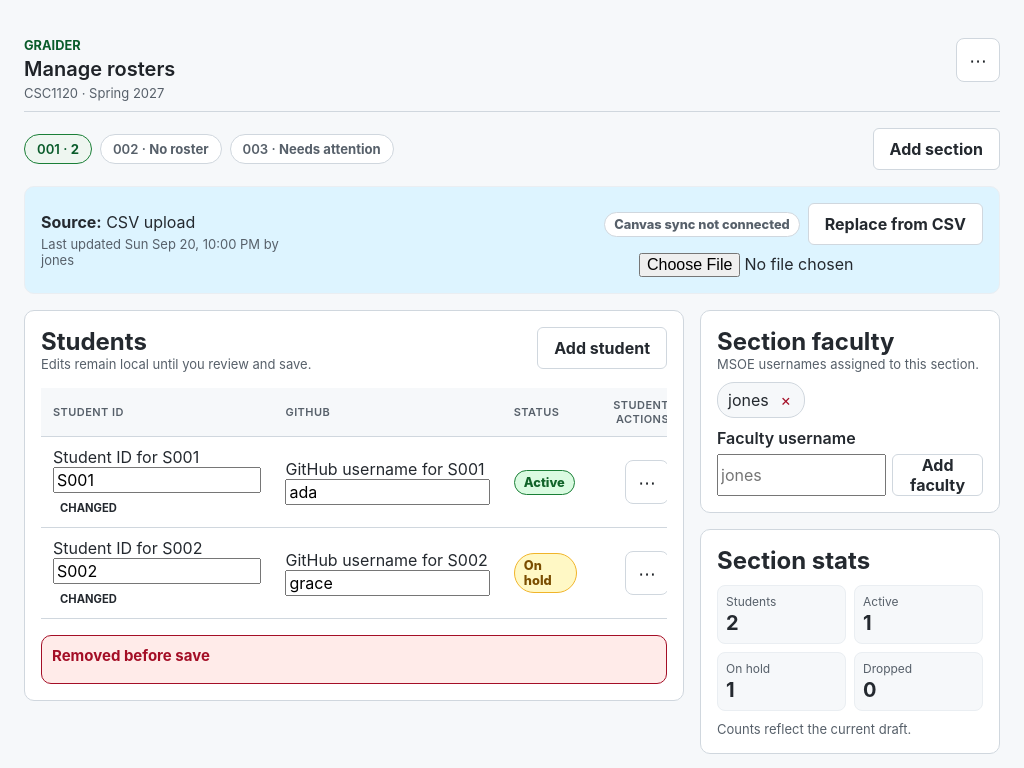
Scenario: RosterManagerPage › requires typed confirmation before removing a section and clears the section context
Check: the field showing "ada" is shown, box 286,479 -> 490,505
Click the button named "More roster actions" at (978, 60), box 956,38 -> 1000,82
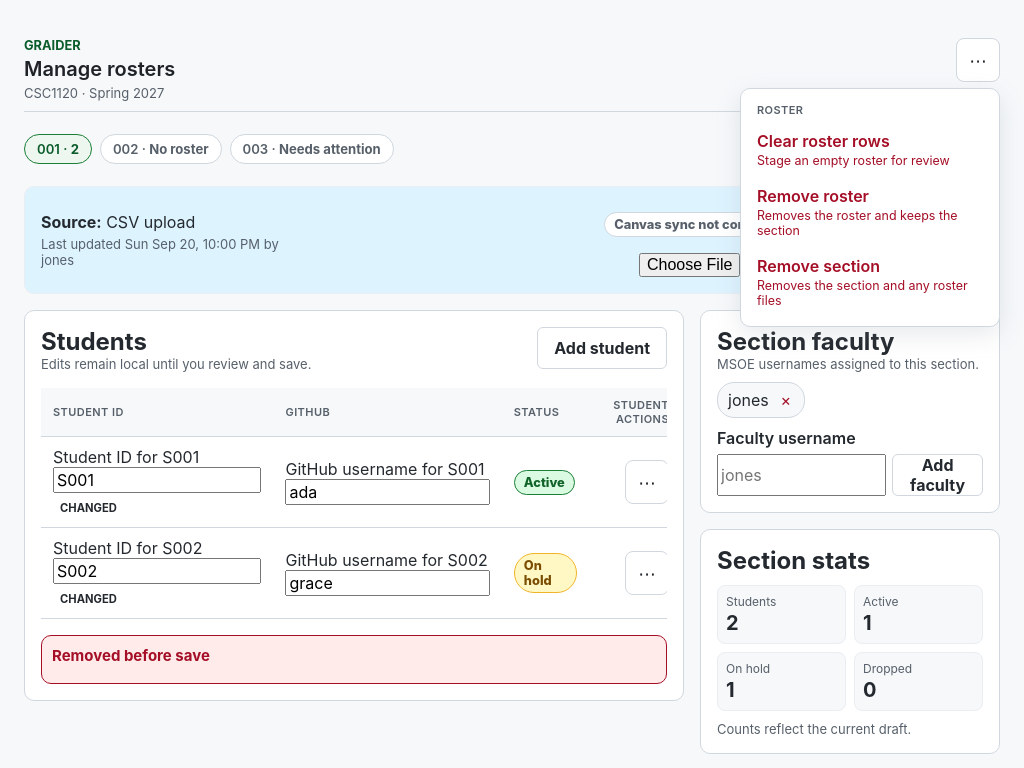
Click the menu item "Remove section Removes the section and any roster files" at (870, 282), box 747,248 -> 993,316
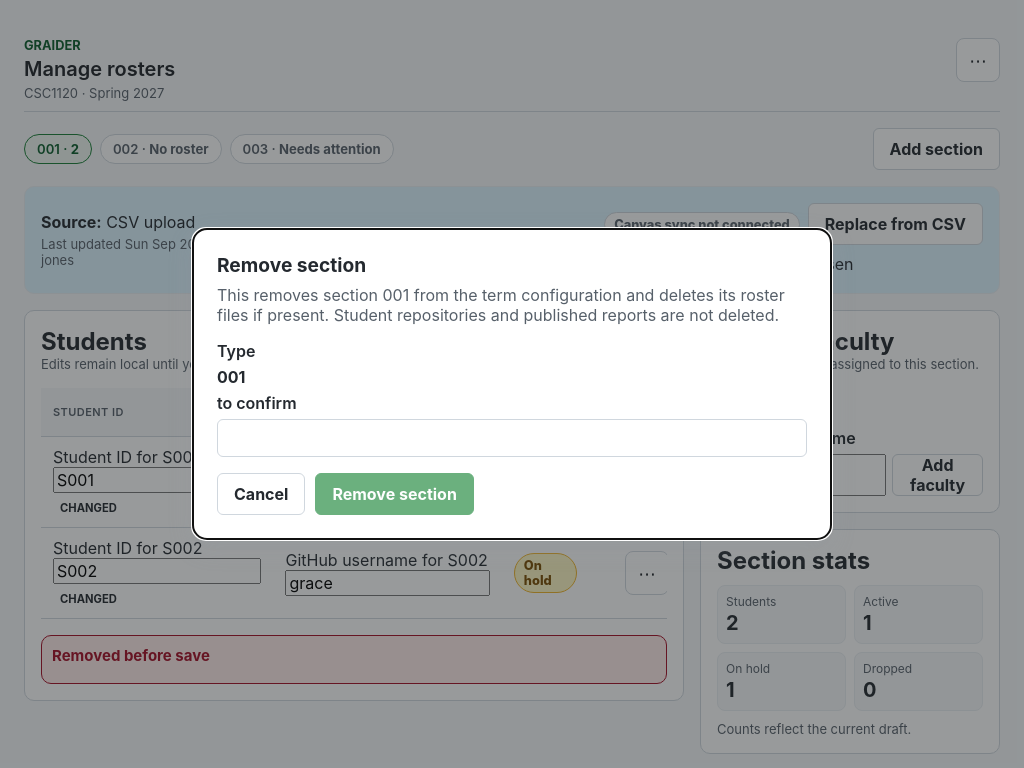
Check: the button "Remove section" is disabled, box 315,473 -> 474,515
Check: the dialog "Remove section" shows "removes section 001 from the term configuration", box 217,285 -> 785,325
Check: the dialog "Remove section" shows "Student repositories and published reports are not deleted", box 217,285 -> 785,325
Type "001" into the field labelled "Type 001 to confirm" at (512, 438), box 217,419 -> 807,457
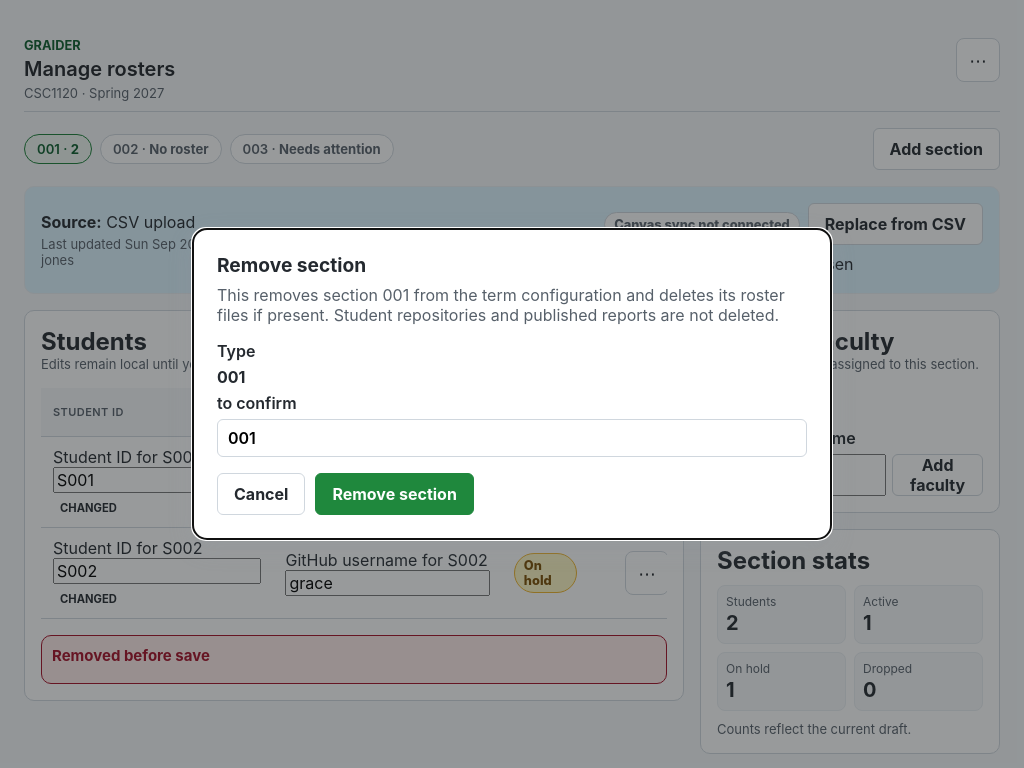
Click the button "Remove section" at (395, 494), box 315,473 -> 474,515
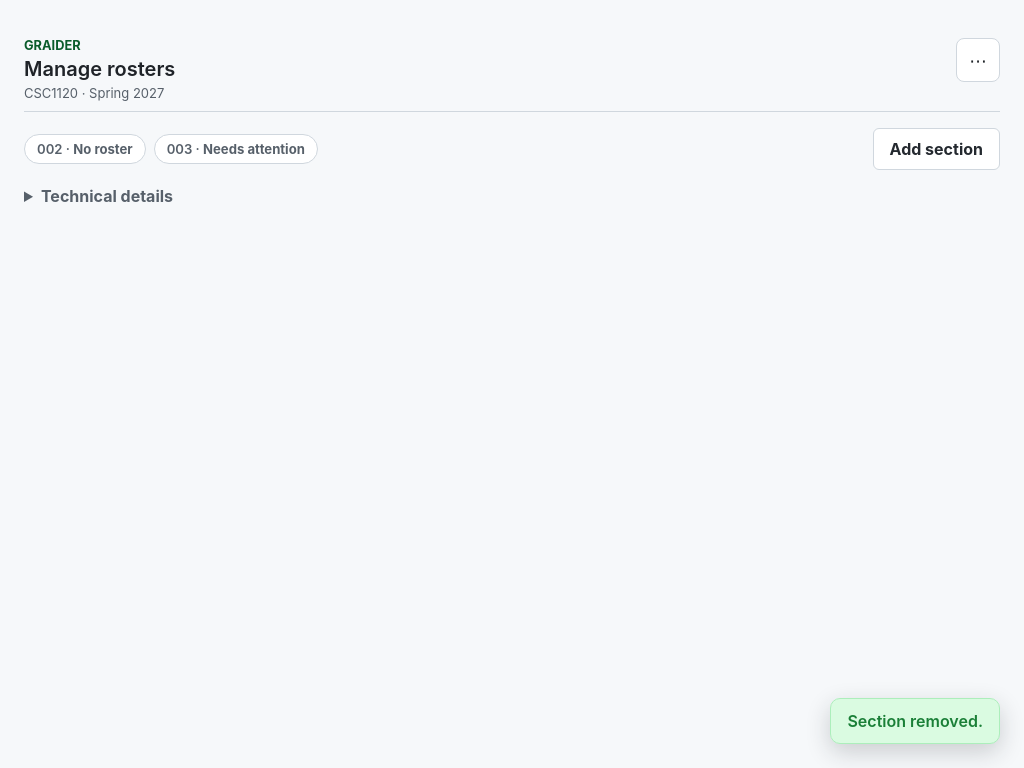
Check: the text "section 001" is gone
Check: the text "jones" is gone
